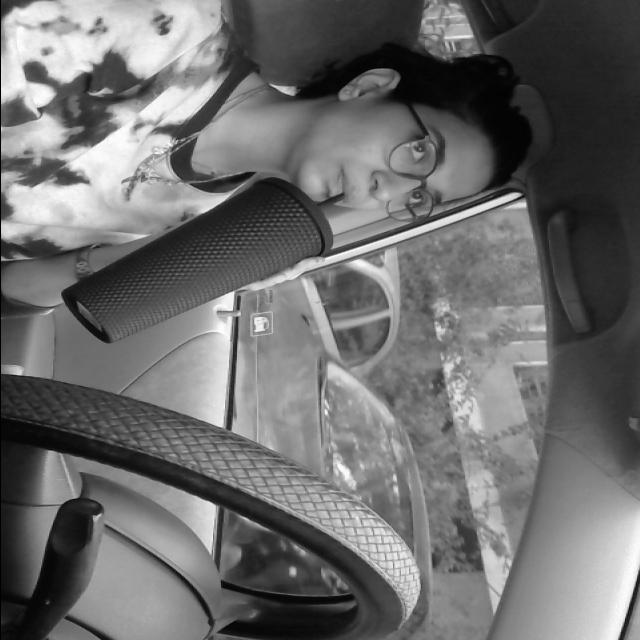drinking: (54, 175, 362, 351)
